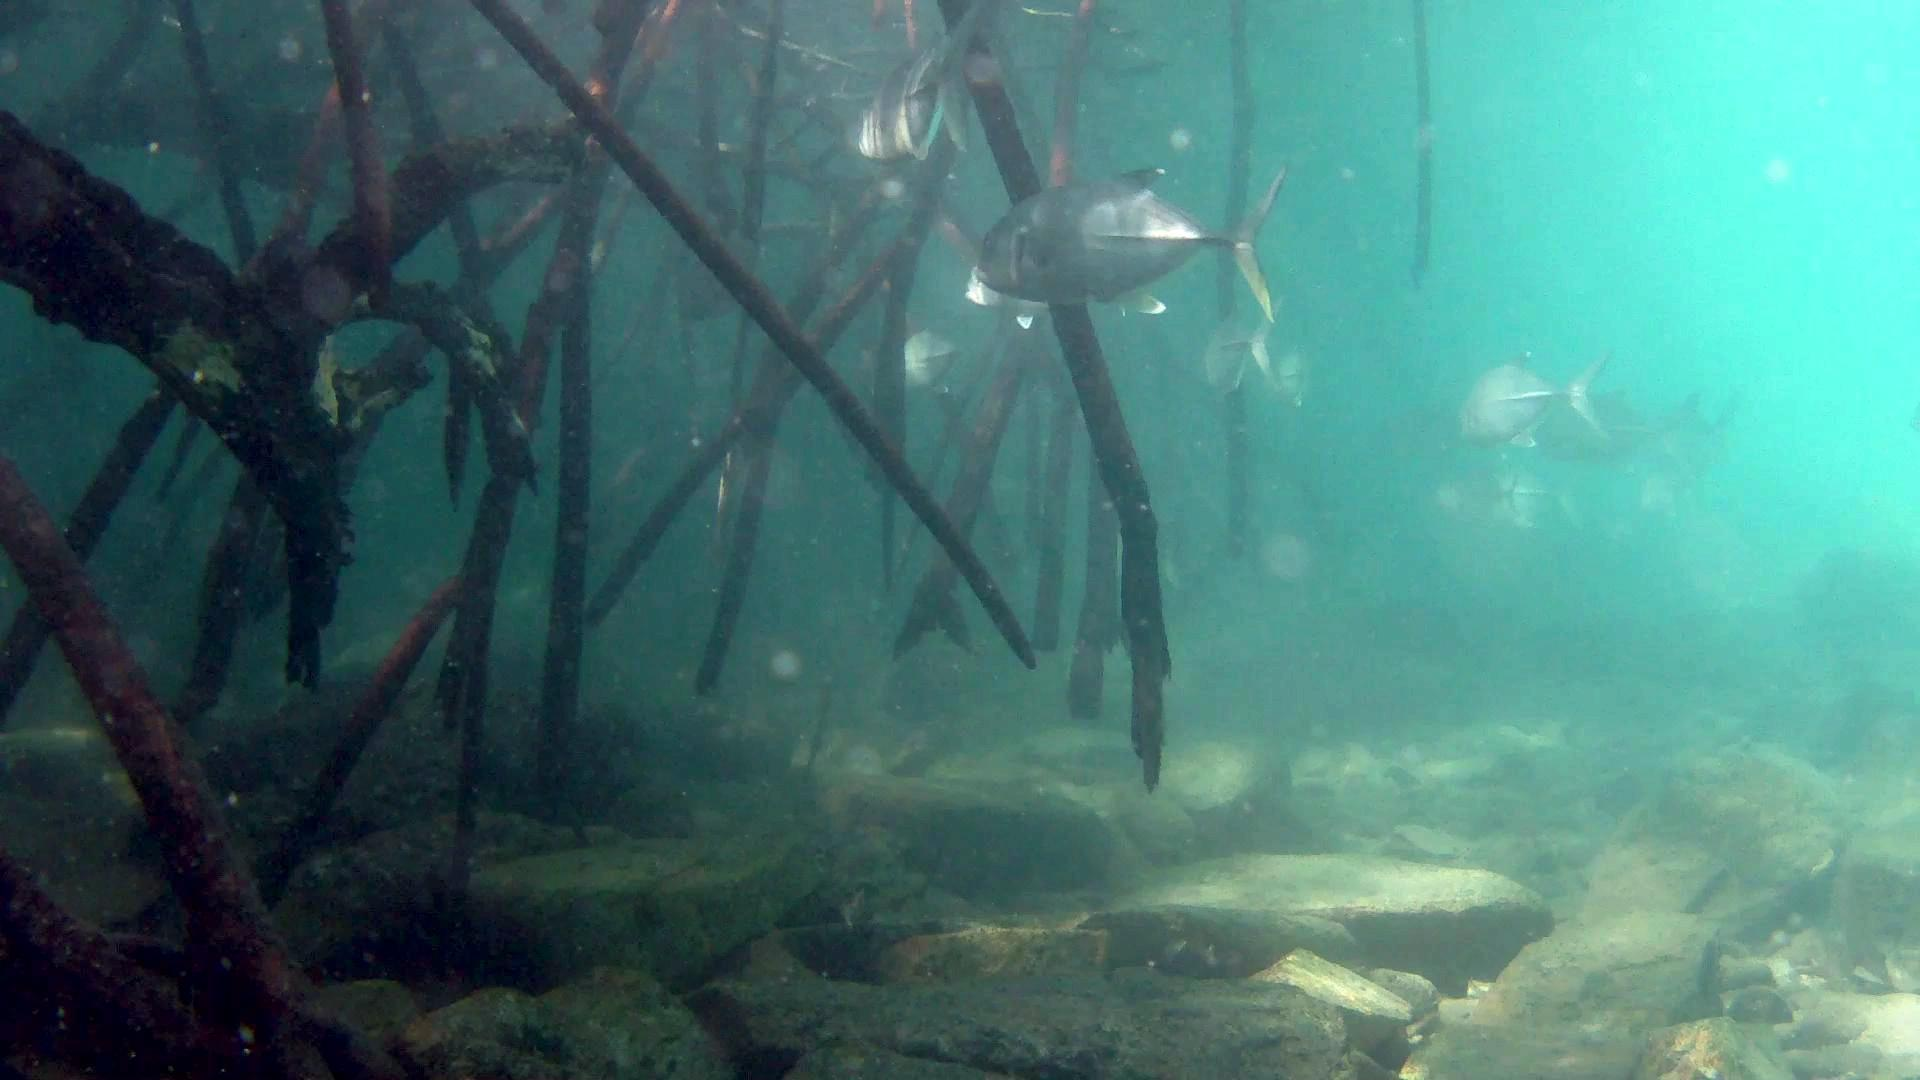caranx: (960, 150, 1316, 319)
